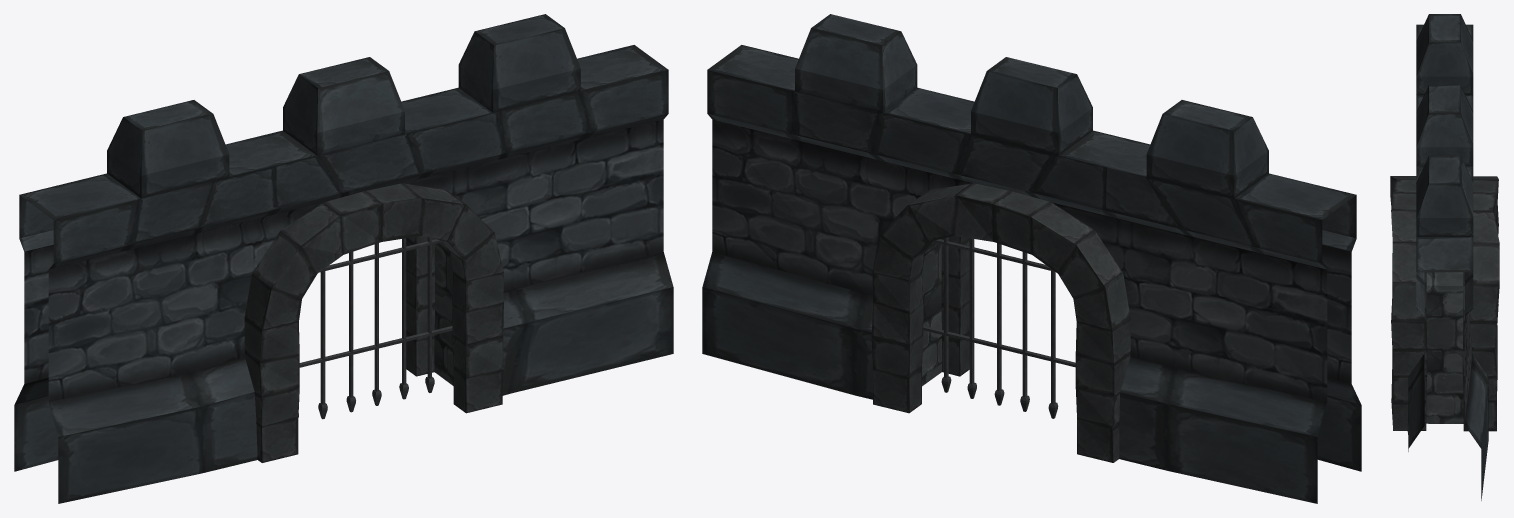
File: cp_gatewall2_B.FBX
3 renders of one model, left to right at view 1: azimuth 30°, elevation 25°; view 2: azimuth 150°, elevation 25°; view 3: azimuth 270°, elevation 25°, orthographic. The views are drawn at different scales.
Visible parts, largest first — view 1: gatewall2, gate2; view 2: gatewall2, gate2; view 3: gatewall2.
Part boxes in pixels (x1,y1,x2,y2): gatewall2: (14,14,673,503); gate2: (298,237,452,419); gatewall2: (702,14,1361,503); gate2: (923,237,1075,418); gatewall2: (1390,14,1499,500).
Bounding box in the file's own units: 73.15 × 38.7 × 13.68.
